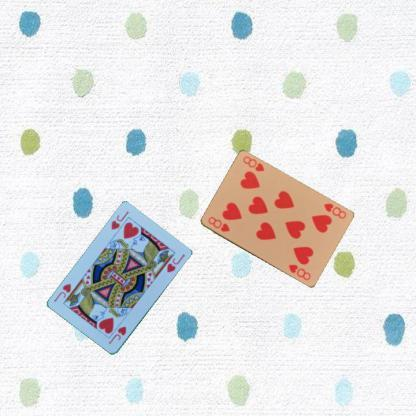8h: (321, 200, 347, 221), (206, 214, 230, 234)
Jh: (106, 324, 128, 346), (108, 209, 130, 231)
